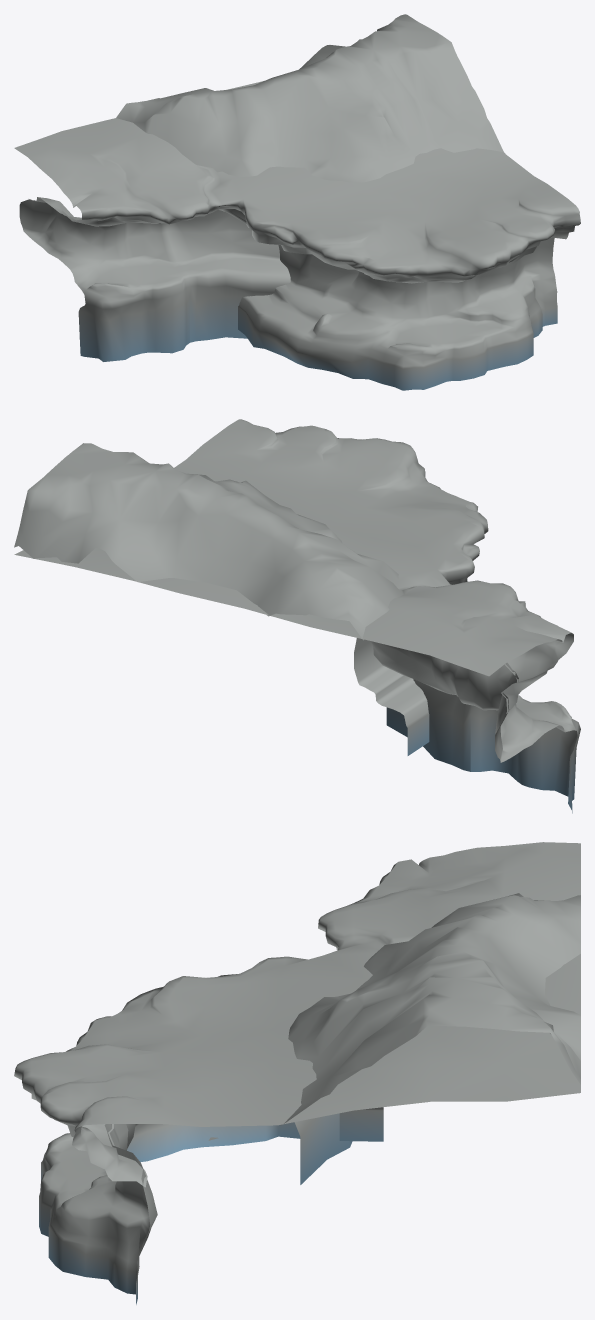
The picture shows the model from 3 angles, top to bottom: view 1: azimuth 30°, elevation 25°; view 2: azimuth 150°, elevation 25°; view 3: azimuth 270°, elevation 25°; orthographic projection. The views are drawn at different scales.
Visible parts, largest first — view 1: G:\FFXIV-MapTools\exports\w1f1\bg\ffxiv\wil_w1\fld\w1f1\bgpl (×6); view 2: G:\FFXIV-MapTools\exports\w1f1\bg\ffxiv\wil_w1\fld\w1f1\bgpl (×6); view 3: G:\FFXIV-MapTools\exports\w1f1\bg\ffxiv\wil_w1\fld\w1f1\bgpl (×6).
Boxes of the visible parts, left/top/right/bottom form: G:\FFXIV-MapTools\exports\w1f1\bg\ffxiv\wil_w1\fld\w1f1\bgpl (×6): left=14, top=14, right=580, bottom=390; G:\FFXIV-MapTools\exports\w1f1\bg\ffxiv\wil_w1\fld\w1f1\bgpl (×6): left=14, top=419, right=580, bottom=813; G:\FFXIV-MapTools\exports\w1f1\bg\ffxiv\wil_w1\fld\w1f1\bgpl (×6): left=14, top=842, right=580, bottom=1304.
Bounding box in the file's own units: 128 × 68.86 × 120.
